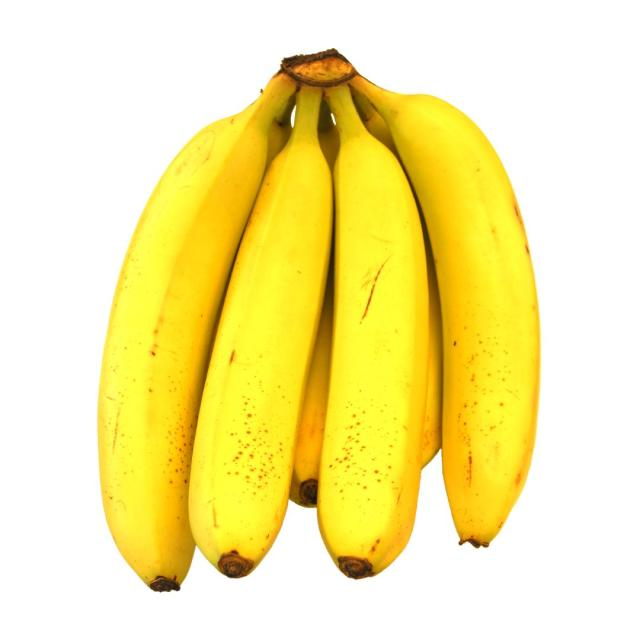Pisang: (98, 49, 297, 586), (348, 48, 544, 547), (188, 58, 336, 578), (319, 51, 430, 581)
